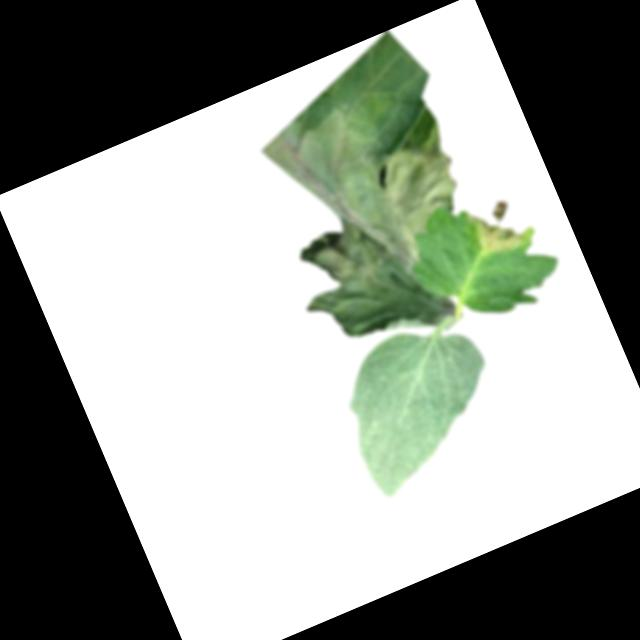Late_blight: (235, 67, 508, 366), (464, 194, 530, 259)
healthy: (321, 305, 521, 502)
